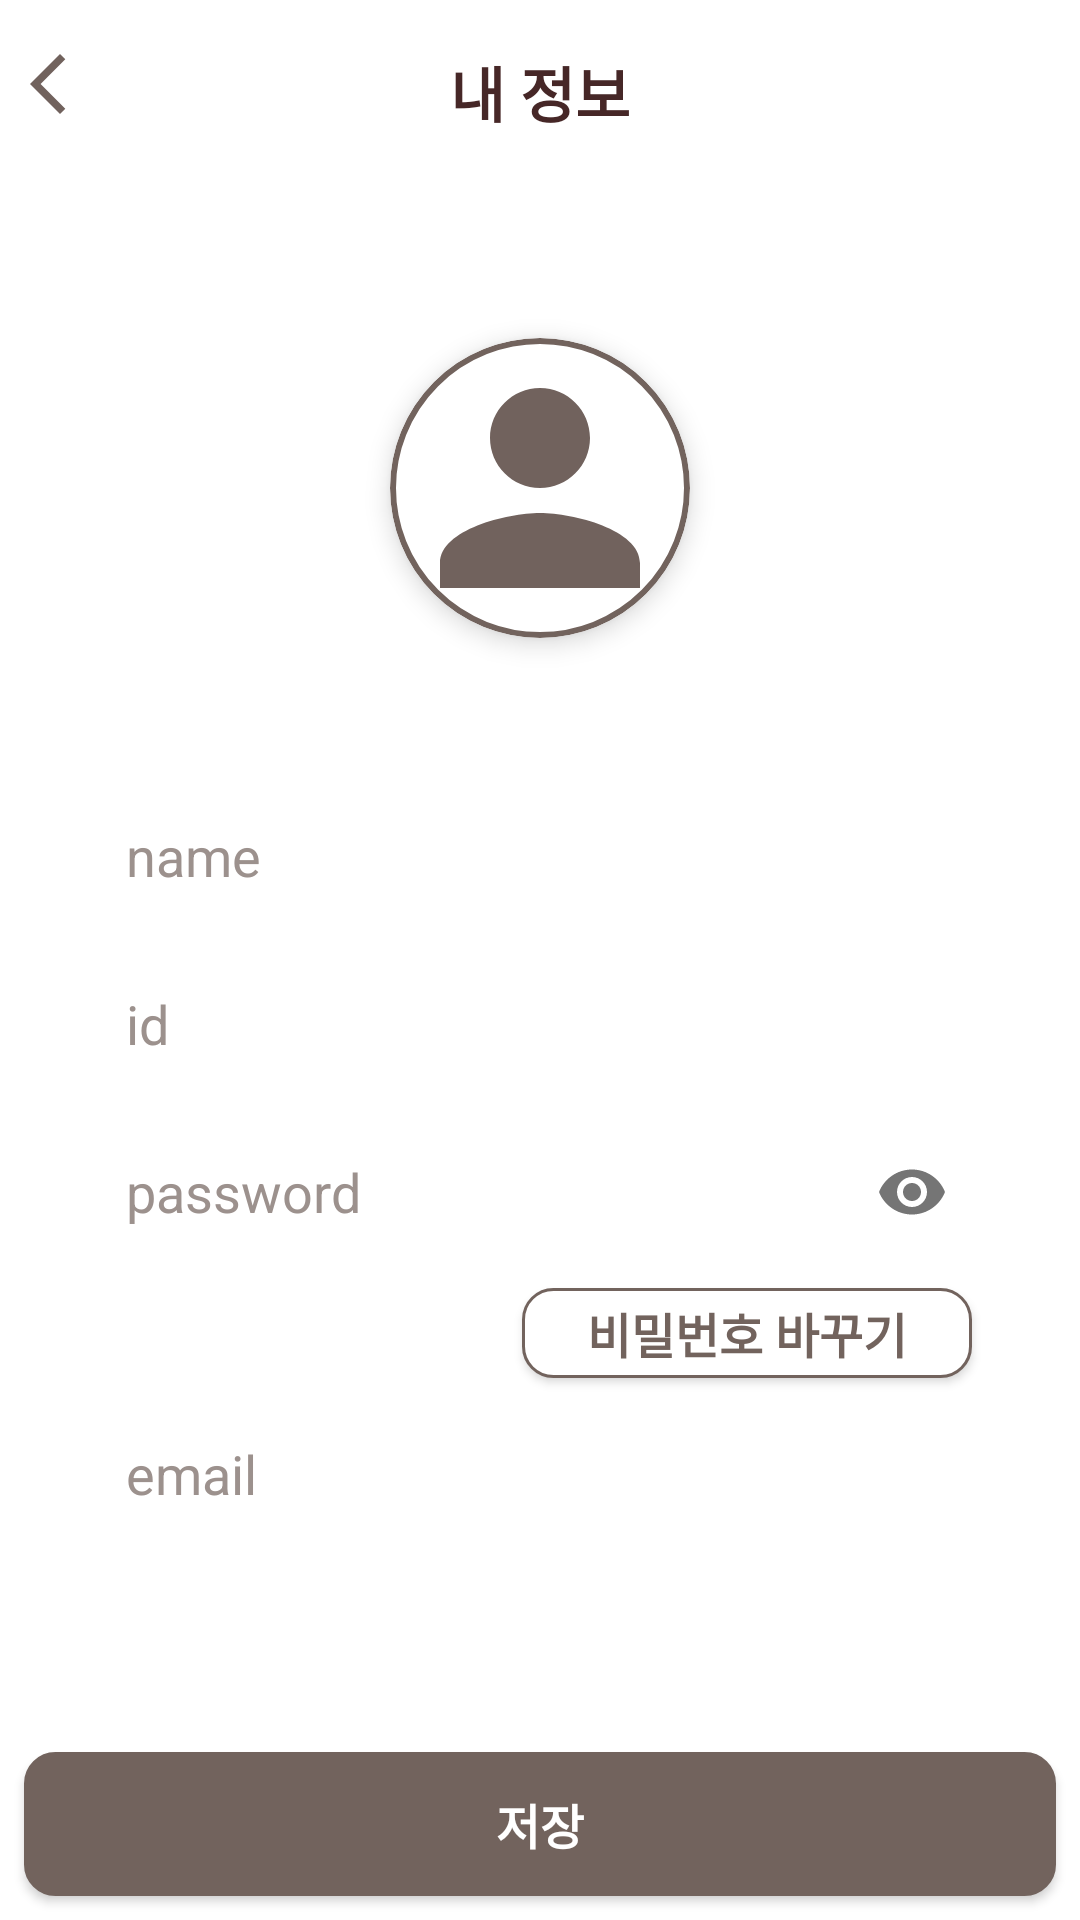

Named icons in this screenshot (1080*1920) and their centers, (x,y):
arrow back: (47,84)
person: (540,488)
